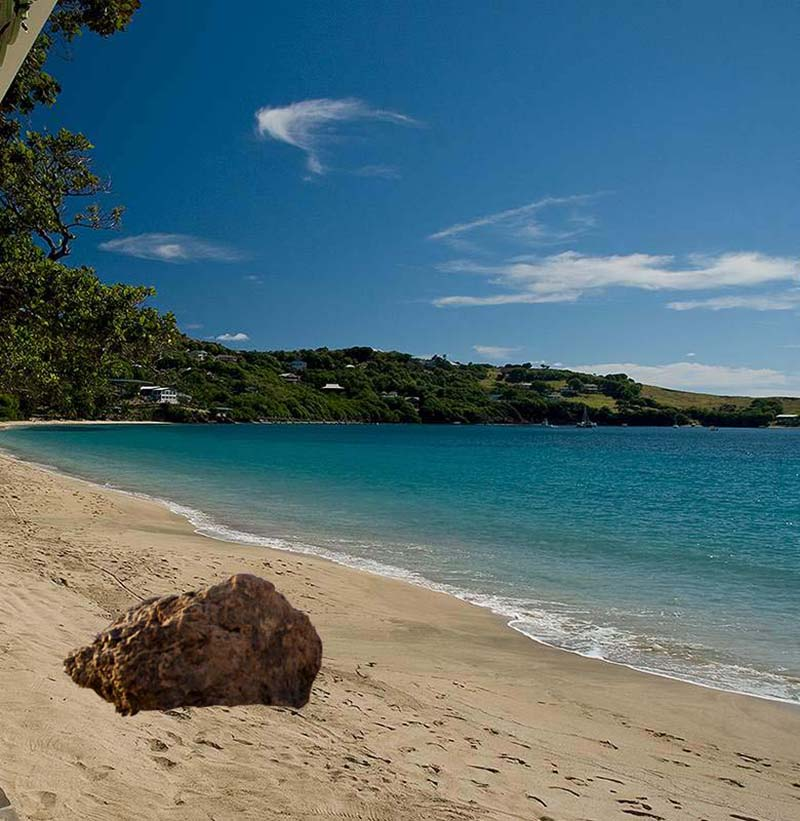Rocks: (58, 564, 333, 721)
